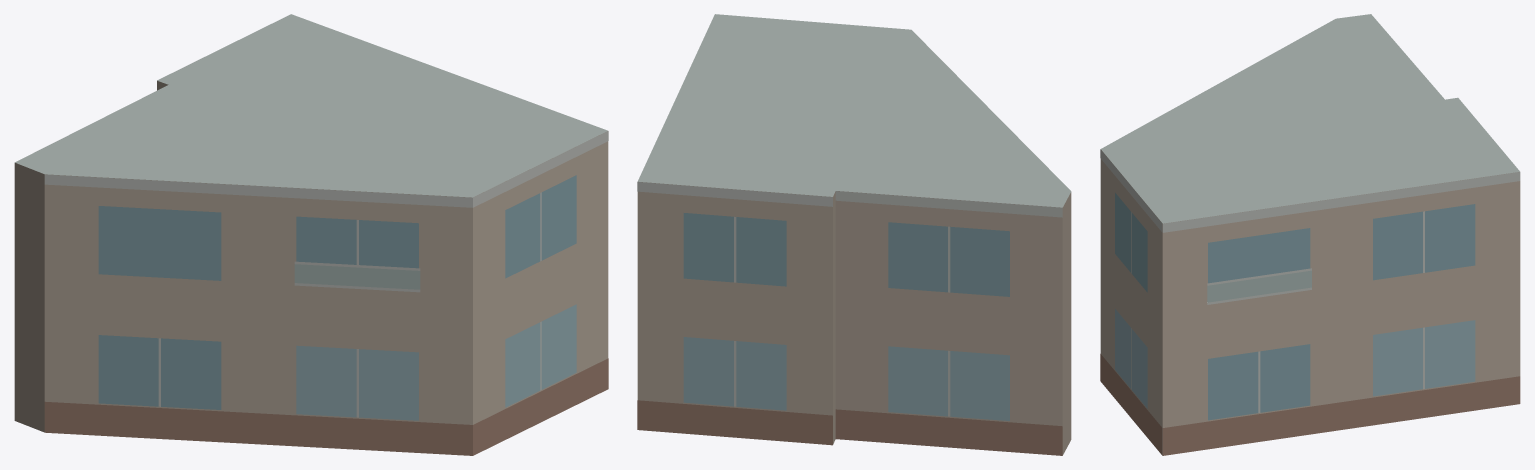
The model's file is survey-upis-32784845.glb.
The picture shows the model from 3 angles, left to right: view 1: azimuth 30°, elevation 25°; view 2: azimuth 150°, elevation 25°; view 3: azimuth 270°, elevation 25°; orthographic projection. The views are drawn at different scales.
Visible parts, largest first — view 1: survey-upis-32784845.tmp; view 2: survey-upis-32784845.tmp; view 3: survey-upis-32784845.tmp.
Part boxes in pixels (<box>): survey-upis-32784845.tmp: <box>14,14,608,455</box>; survey-upis-32784845.tmp: <box>637,14,1071,455</box>; survey-upis-32784845.tmp: <box>1100,14,1520,455</box>.
Bounding box in the file's own units: 11.82 × 6.1 × 10.
